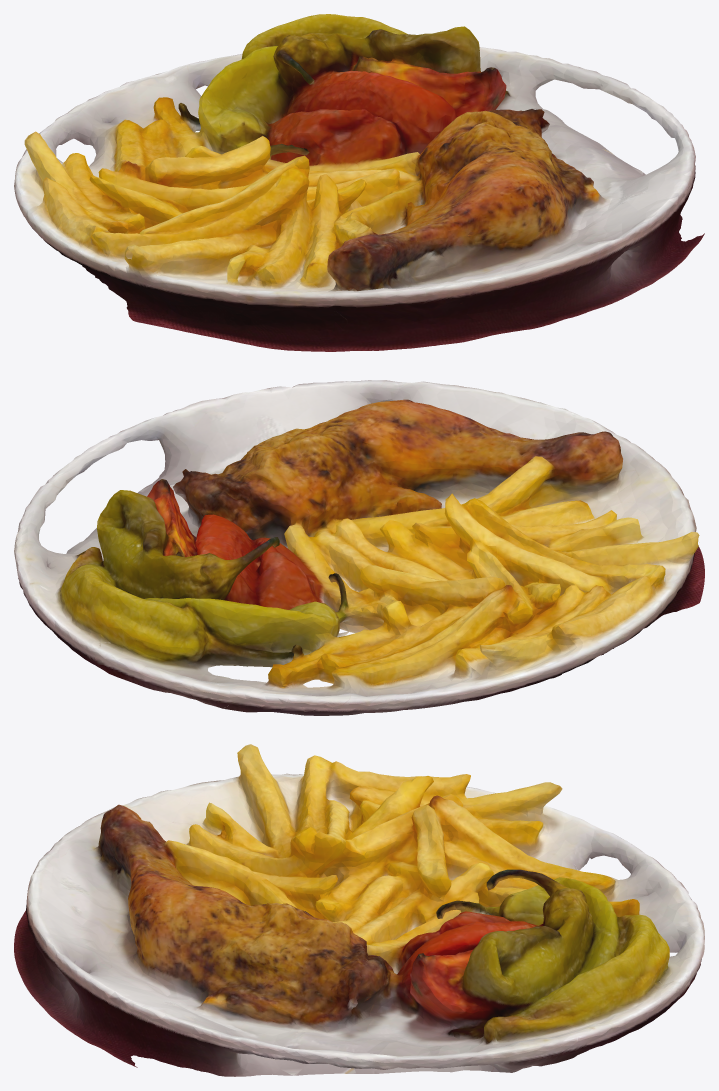
Rendered from firinda-kalcali-but.glb.
3 renders of one model, top to bottom at view 1: azimuth 30°, elevation 25°; view 2: azimuth 150°, elevation 25°; view 3: azimuth 270°, elevation 25°, orthographic.
Parts seen in each view (by area): view 1: __real_world_scale__; view 2: __real_world_scale__; view 3: __real_world_scale__.
Boxes of the visible parts, x1,y1,x2,y2 form: __real_world_scale__: (14,14,704,351); __real_world_scale__: (14,380,704,715); __real_world_scale__: (14,744,704,1076).
Bounding box in the file's own units: 0.276 × 0.0415 × 0.28.
1 material, 1 textured.
